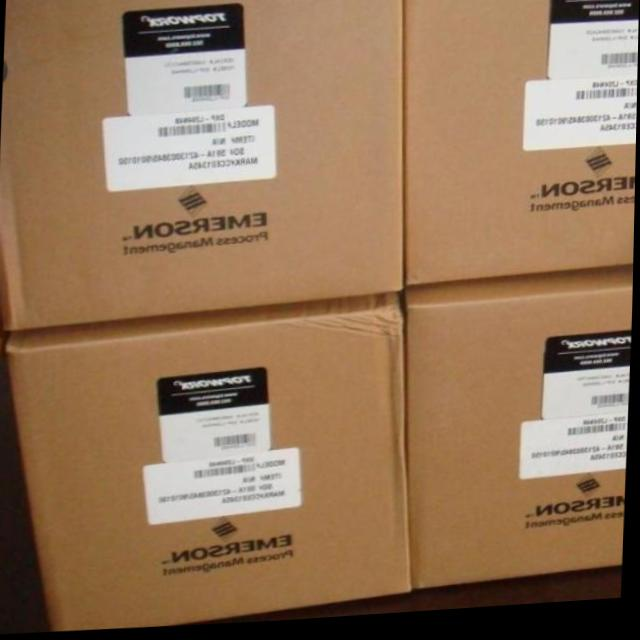box: (5, 294, 415, 630), (403, 274, 635, 595), (403, 0, 639, 292), (0, 305, 6, 350)
